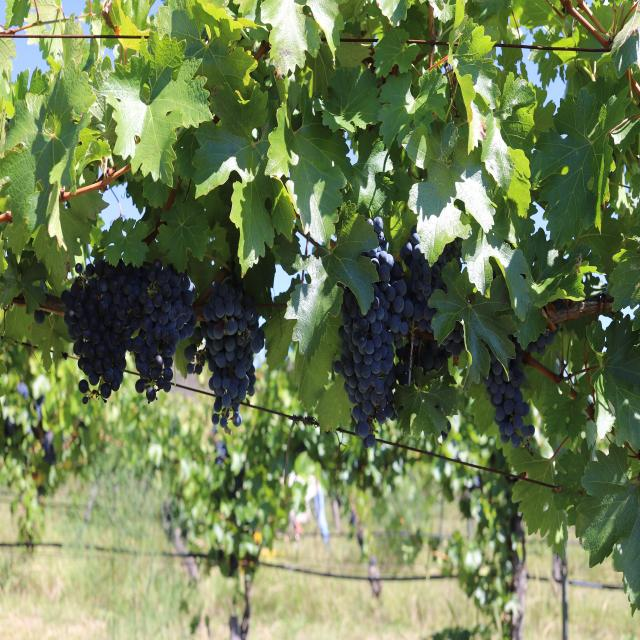grapes: (333, 216, 463, 447), (61, 259, 196, 401), (184, 274, 264, 432), (483, 336, 535, 448)
